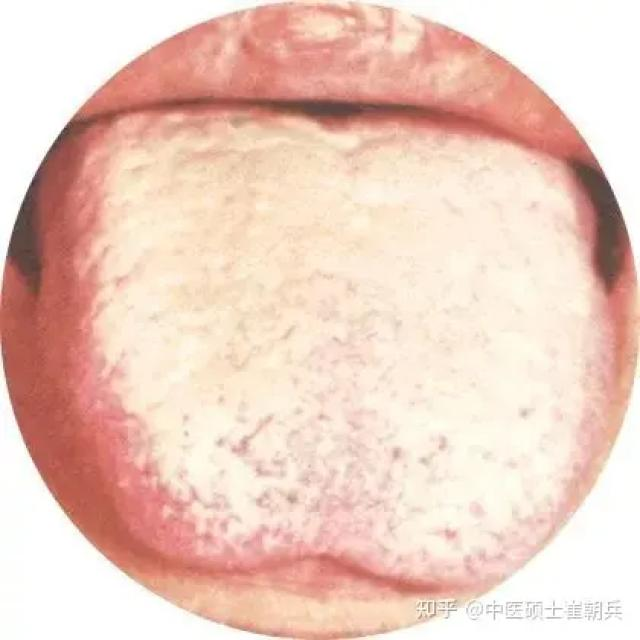tongue: (46, 118, 621, 578)
